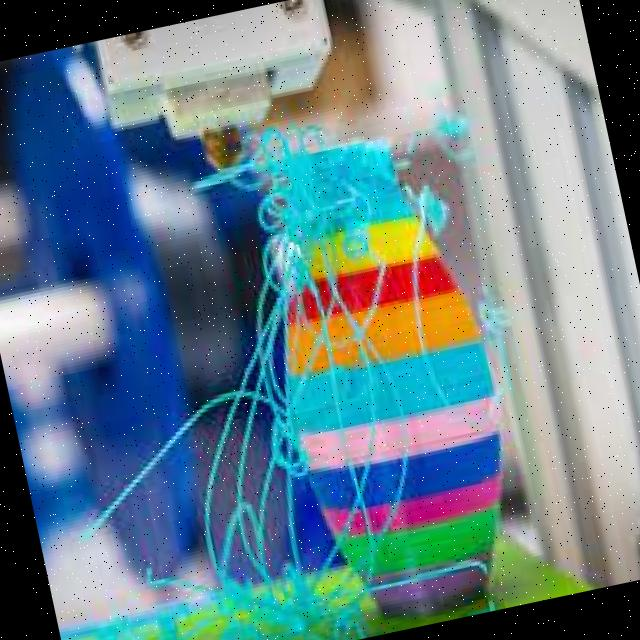spaghetti: (59, 235, 437, 640), (200, 106, 392, 263), (392, 100, 502, 242), (467, 279, 528, 370)
